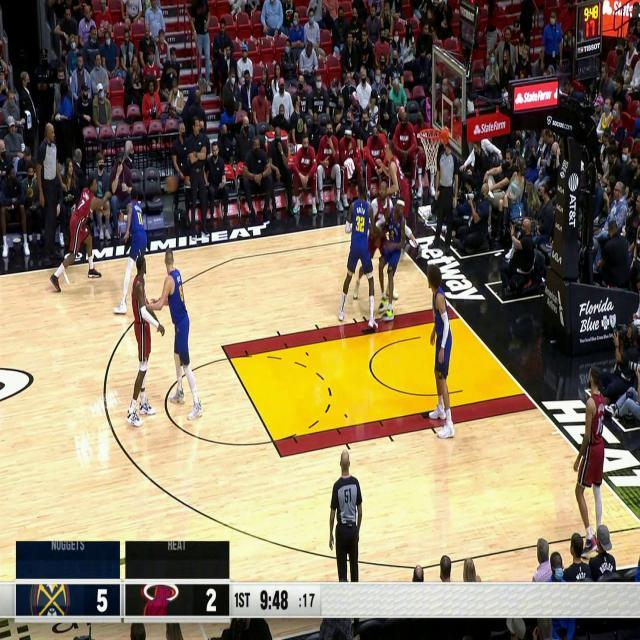rim: (165, 176, 178, 192)
